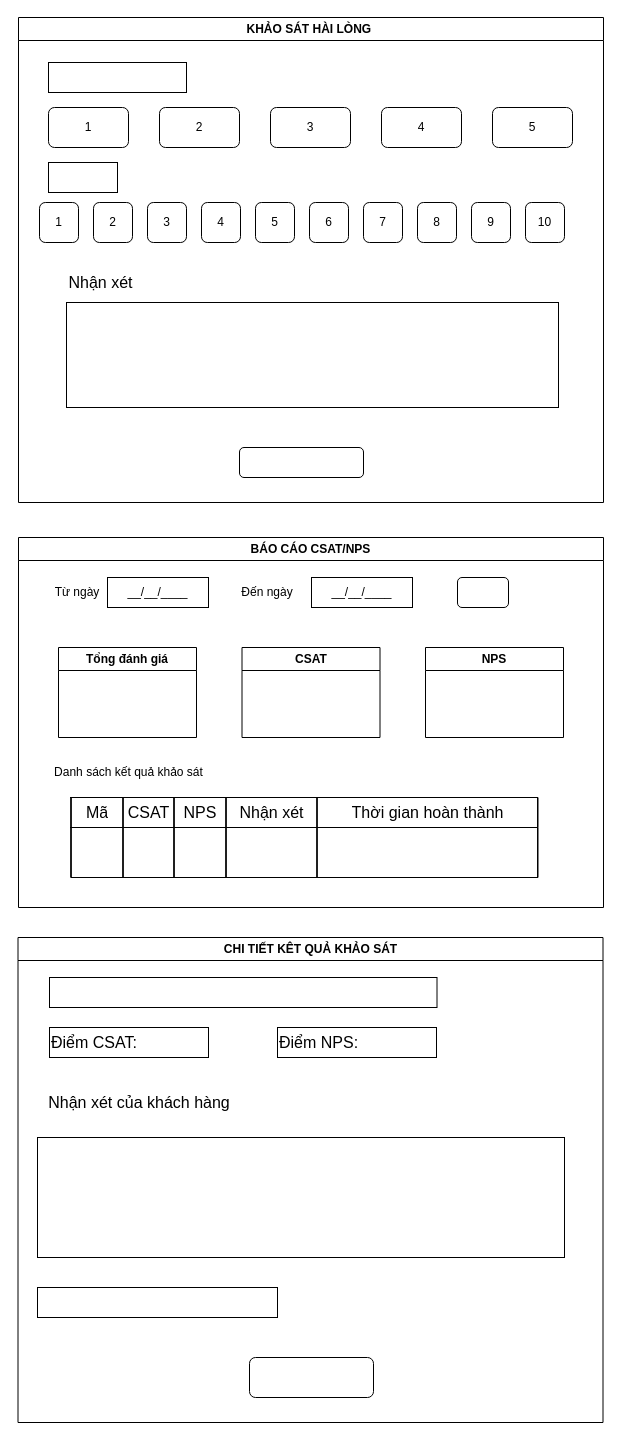
Some shapes in this 621 by 1440 pixel diagram are drawn without their labels. The shapes that lost their labels are listed below. From the top down, each one's centre as x and y in pixels, then its label:
At point 117,77: "Mức độ hài lòng (CSAT)".
At point 83,177: "Điểm NPS".
At point 301,462: "Gửi khảo sát".
At point 482,592: "Lọc".
At point 242,992: "Mã kết quả:".
At point 157,1302: "Thời gian hoàn thành:".
At point 311,1377: "Quay lại báo cáo".
